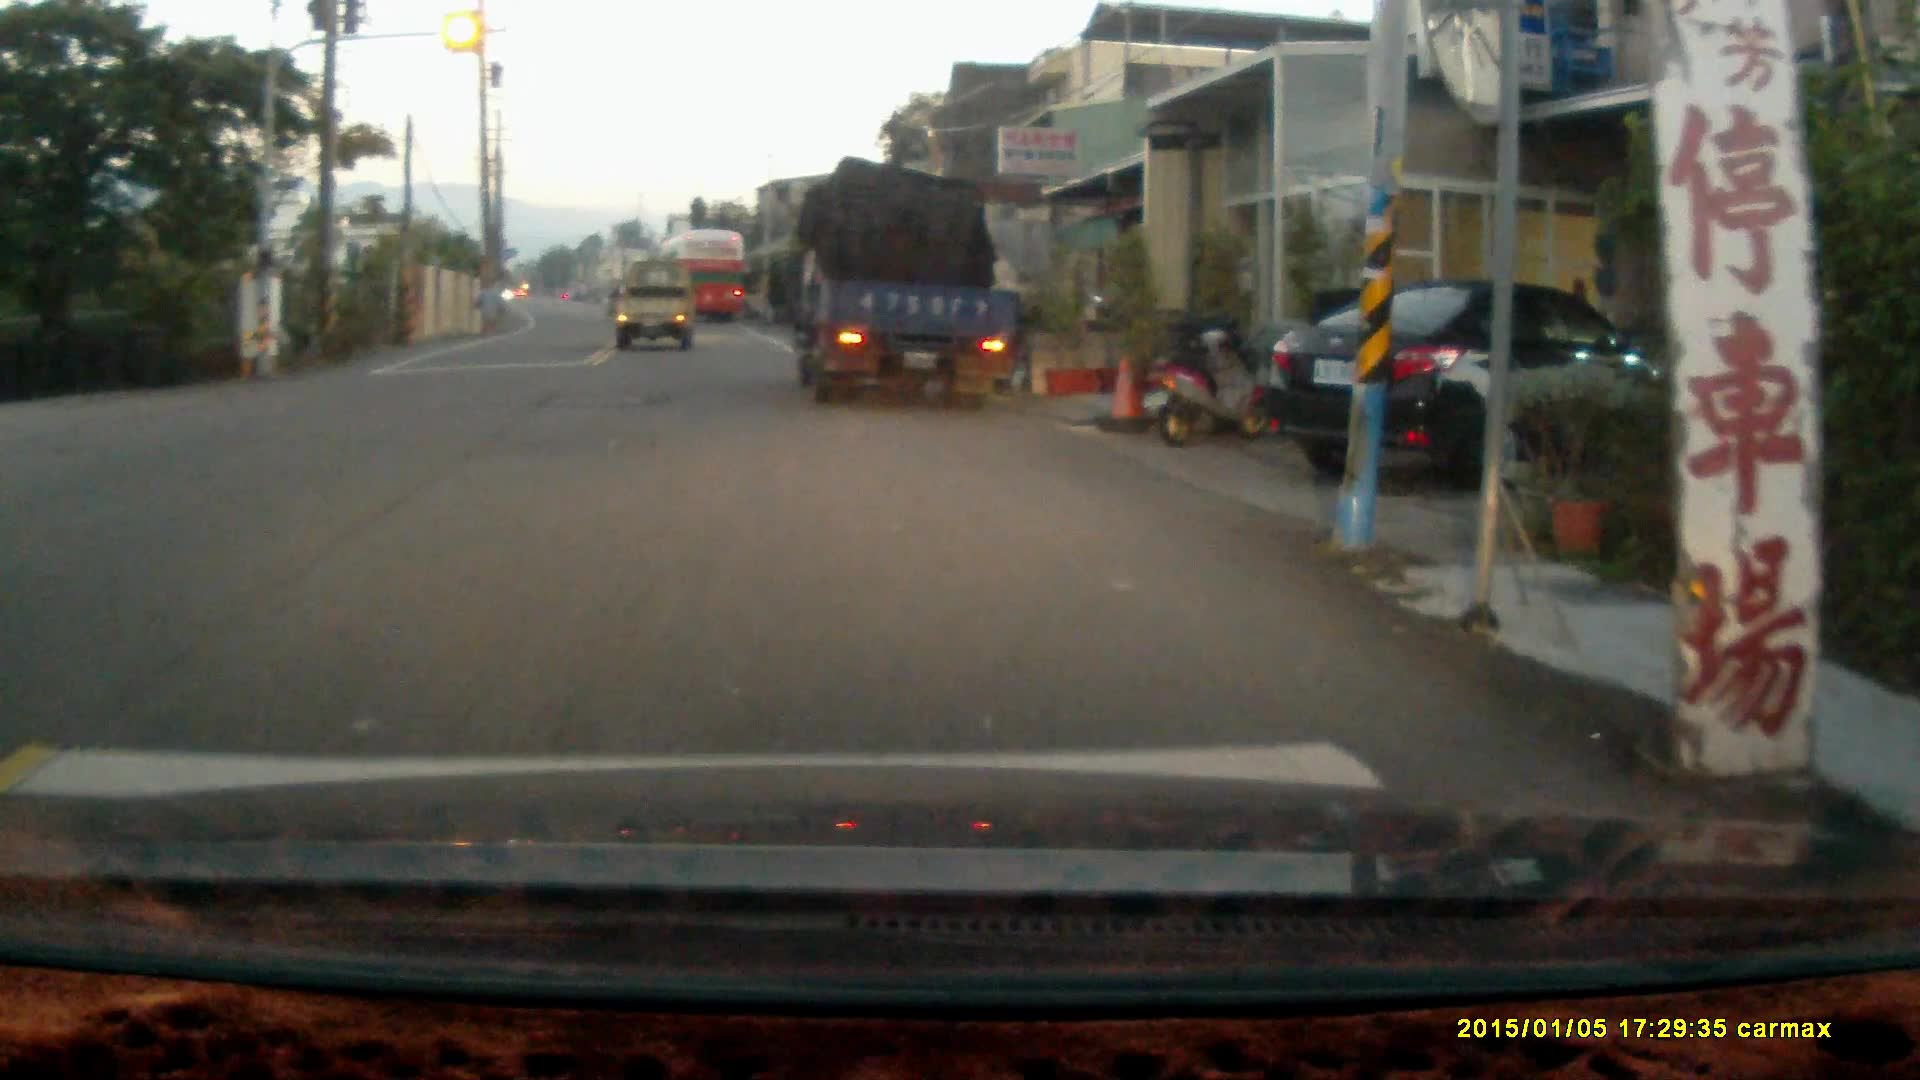vehicle: (1255, 281, 1691, 487), (781, 167, 1025, 405), (659, 233, 754, 335), (615, 266, 695, 351)
